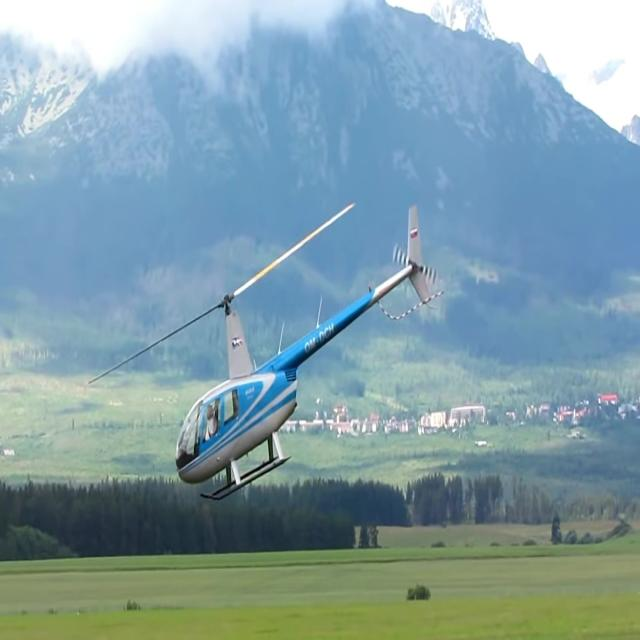CIV_HELO: (172, 204, 434, 504)
